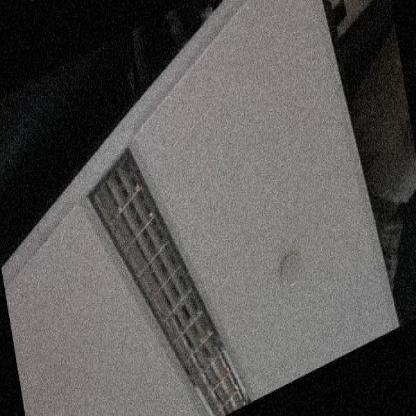light_off: (64, 86, 258, 415)
